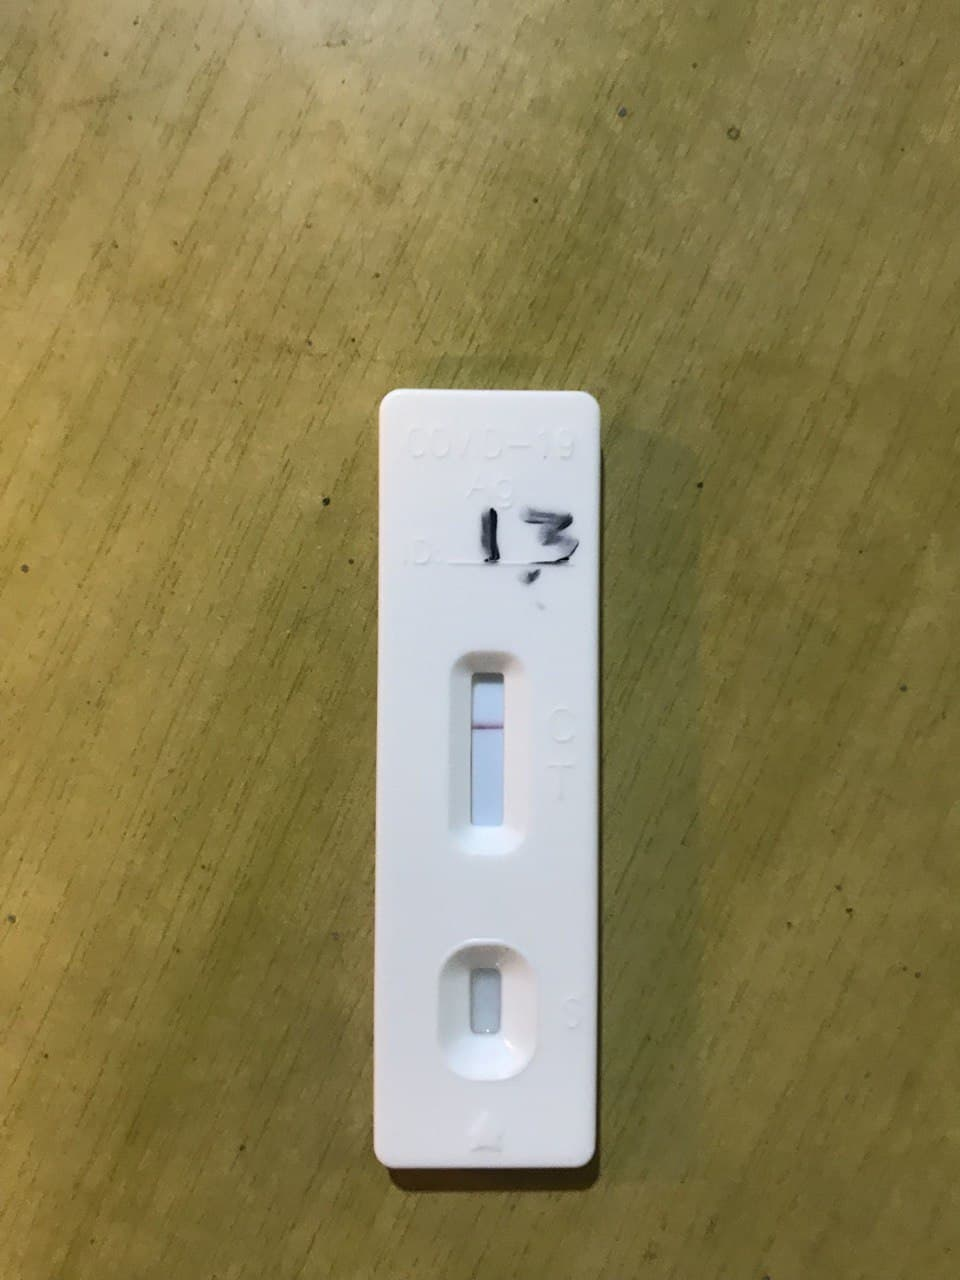rapid_test: (374, 387, 593, 1167)
